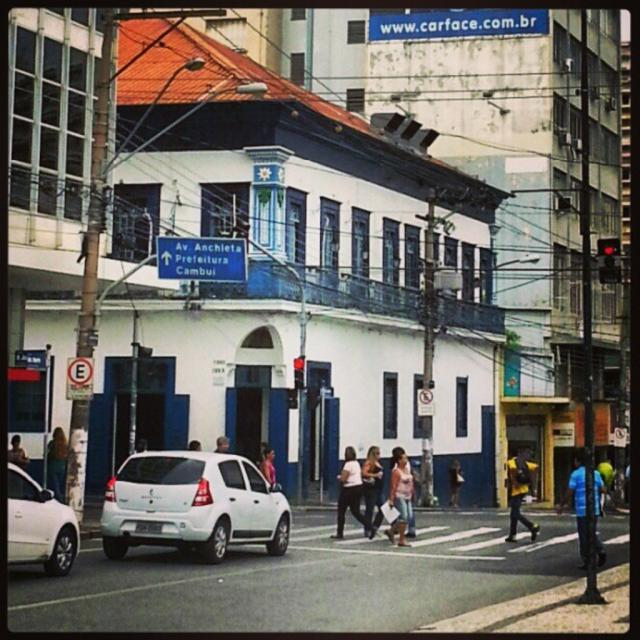car: (87, 453, 290, 568)
